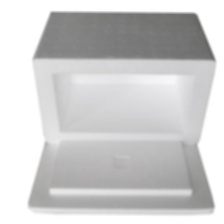foam_box: (25, 6, 219, 219)
